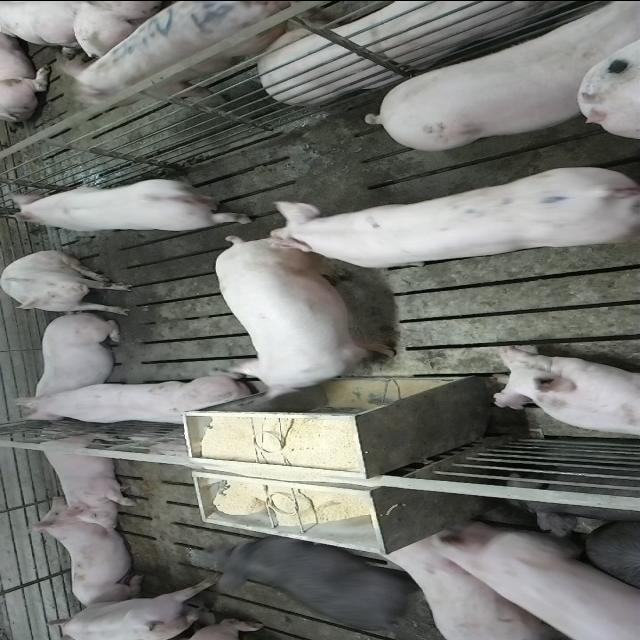Feeding: (212, 230, 397, 402)
Lateral_lying: (259, 0, 583, 102)
Sitting: (12, 372, 256, 428), (2, 248, 138, 314)
Standing: (362, 5, 636, 154), (263, 158, 640, 266), (70, 0, 333, 106), (378, 526, 578, 638), (222, 533, 428, 635), (10, 178, 258, 235), (37, 573, 222, 640), (585, 522, 640, 594)
Sternal_lying: (489, 346, 640, 438), (21, 498, 146, 607), (21, 316, 126, 418), (30, 425, 138, 522)
